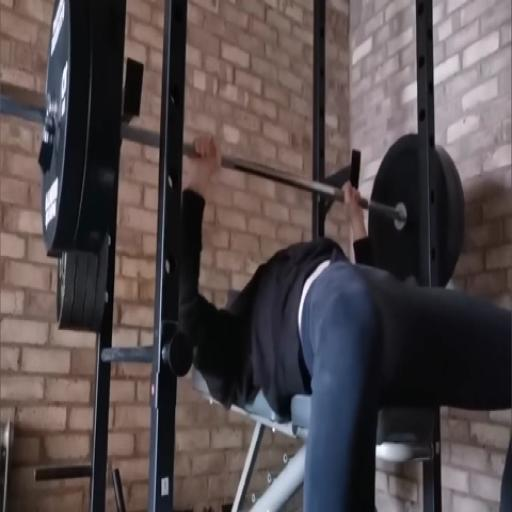exercise: (175, 131, 511, 510)
